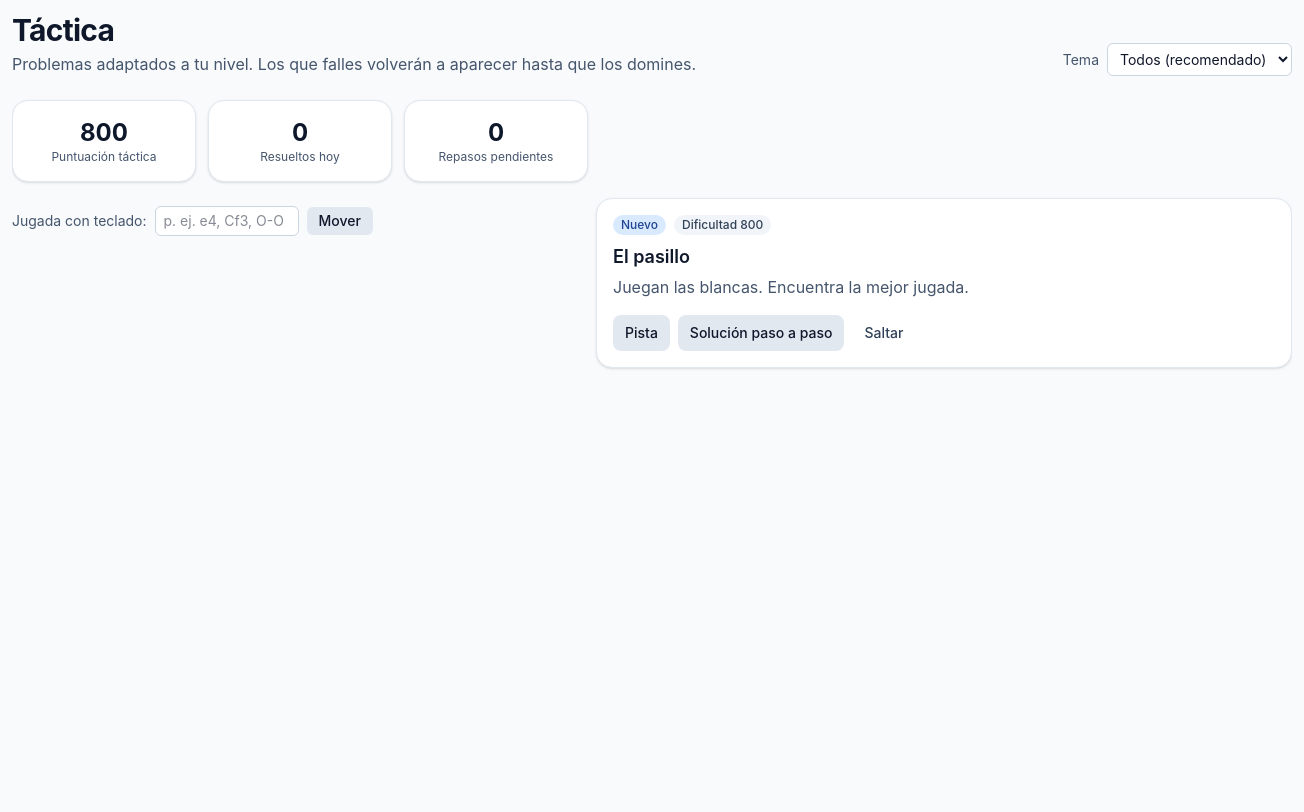
Test: TacticsPage › resuelve un problema y actualiza la puntuación
Check: the heading "El pasillo" is shown, box [613,246,690,267]
Type "Ta8" into the field labelled "Jugada con teclado:".
click(226, 221); type("Ta8")  # box [154,206,298,236]
Then press Enter
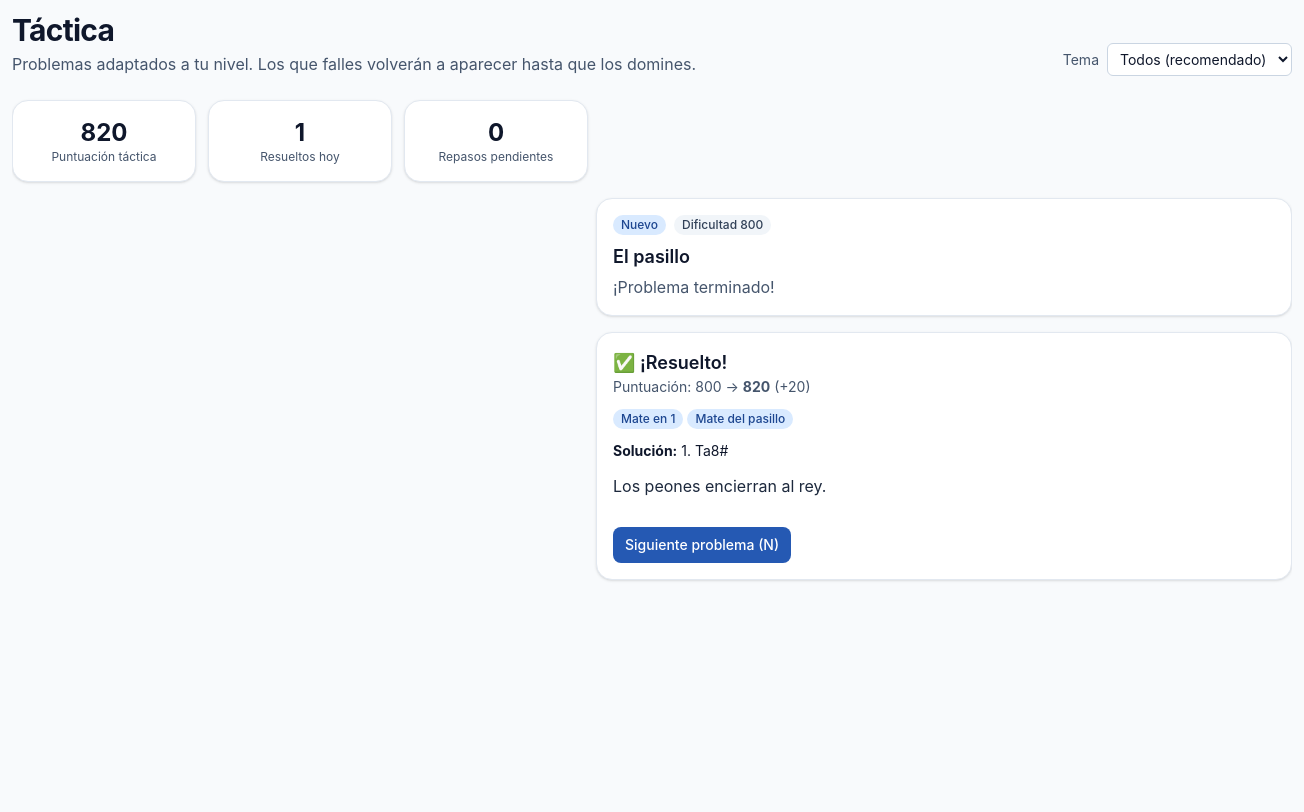
Check: the text "✅ ¡Resuelto!" is shown, box [613,352,727,373]
Check: the text "Los peones encierran al rey." is shown, box [613,476,826,496]
